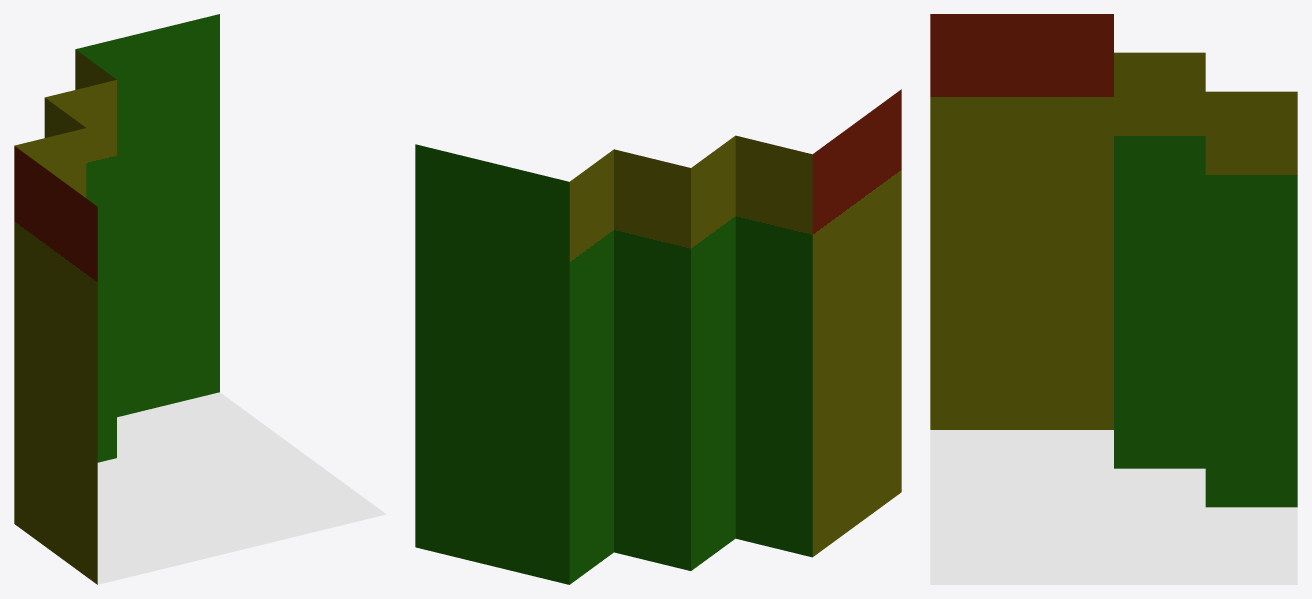
The model's file is block_30.fbx.
The picture shows the model from 3 angles, left to right: view 1: azimuth 30°, elevation 25°; view 2: azimuth 150°, elevation 25°; view 3: azimuth 270°, elevation 25°; orthographic projection. The views are drawn at different scales.
Visible parts, largest first — view 1: box; view 2: box; view 3: box.
Boxes of the visible parts, x1,y1,x2,y2 form: box: (14,14,386,584); box: (415,89,901,584); box: (930,14,1297,584).
Size of the model in its own units: 4 by 4 by 5.
1 material, 1 textured.
